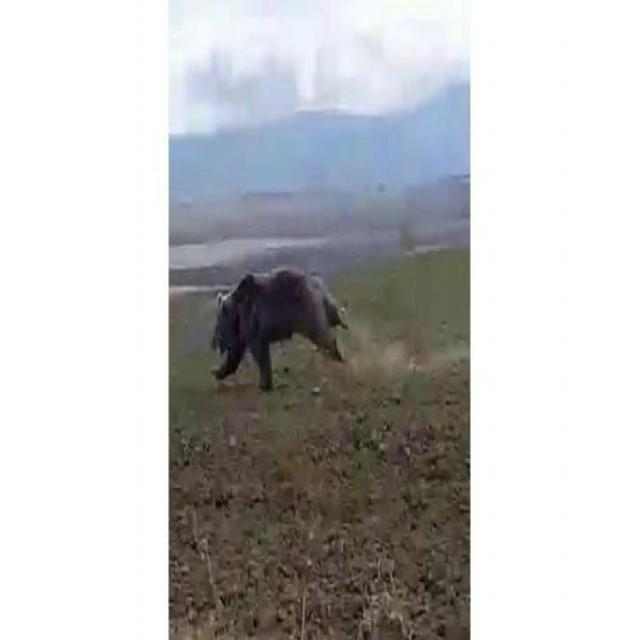Bear: (212, 270, 346, 392)
